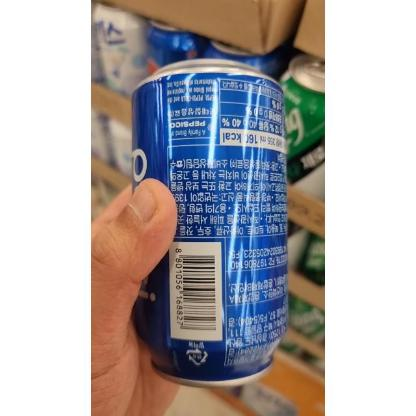Can: (126, 54, 292, 392)
